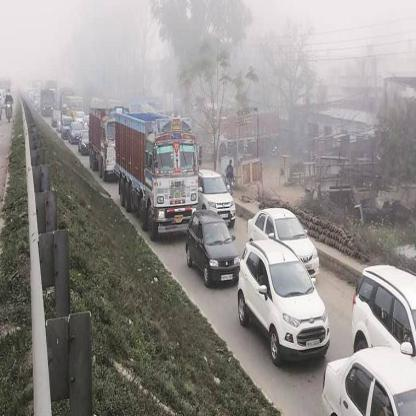car: (241, 239, 325, 370), (326, 340, 416, 416), (347, 255, 416, 351), (248, 197, 320, 279), (189, 211, 238, 293), (200, 170, 239, 224), (78, 135, 90, 159), (62, 117, 72, 141), (71, 125, 80, 143), (52, 110, 60, 127)
motorbike: (7, 91, 14, 123)
truck: (116, 115, 196, 252), (90, 103, 119, 176), (41, 91, 54, 118)
